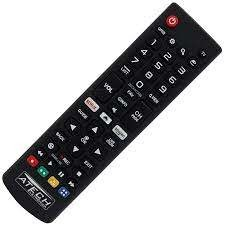remote control: (8, 7, 225, 225)
